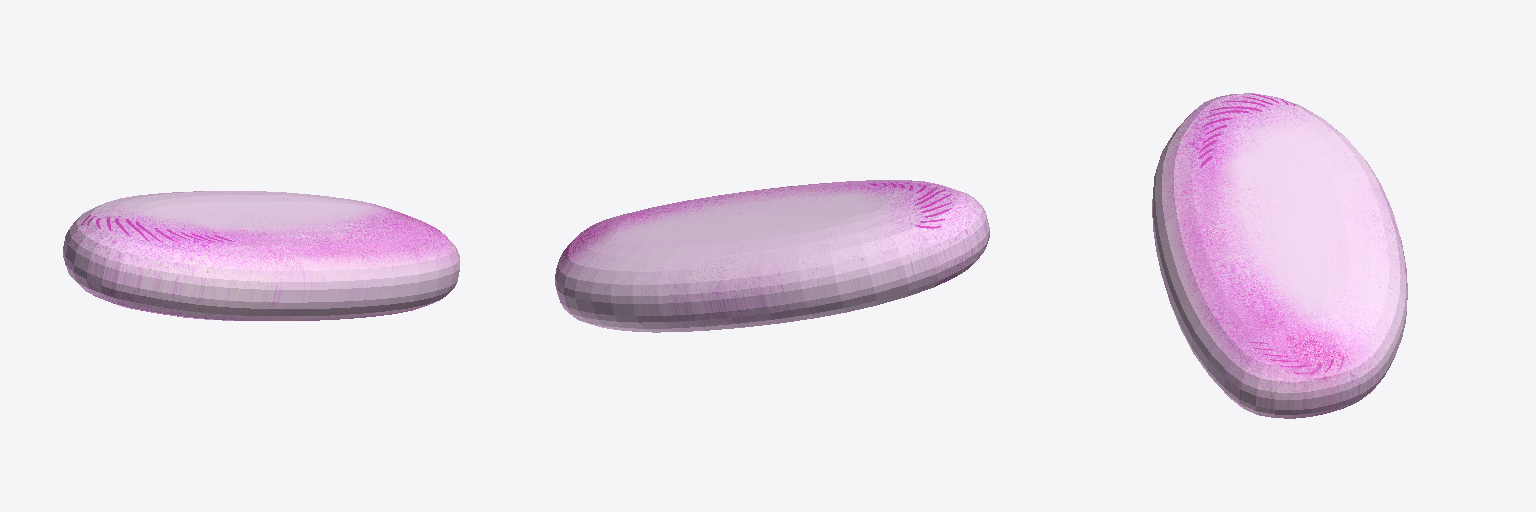
3 renders of one model, left to right at view 1: azimuth 30°, elevation 25°; view 2: azimuth 150°, elevation 25°; view 3: azimuth 270°, elevation 25°, orthographic.
Visible parts, largest first — view 1: Cloud_Maru_002; view 2: Cloud_Maru_002; view 3: Cloud_Maru_002.
Part boxes in pixels (left/top/right/bottom): Cloud_Maru_002: left=63, top=191, right=459, bottom=320; Cloud_Maru_002: left=555, top=180, right=989, bottom=332; Cloud_Maru_002: left=1152, top=93, right=1407, bottom=418.
Bounding box in the file's own units: 0.5786 × 0.225 × 0.3274.
Materials: 1 (1 with a texture image).